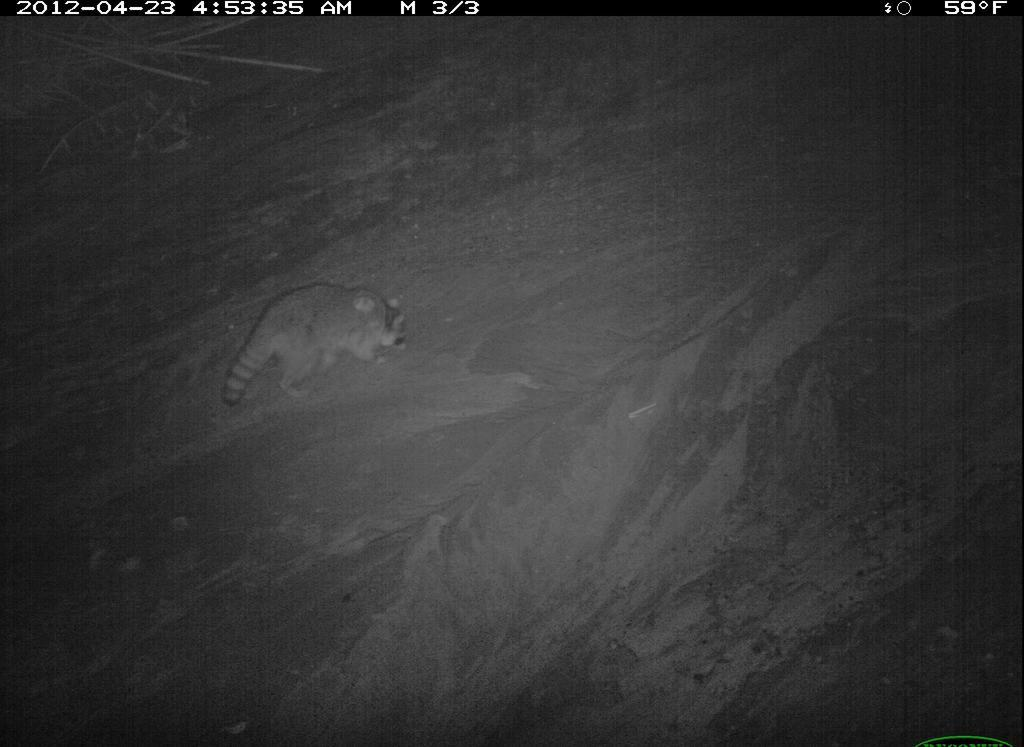raccoon: (432, 553, 826, 747)
